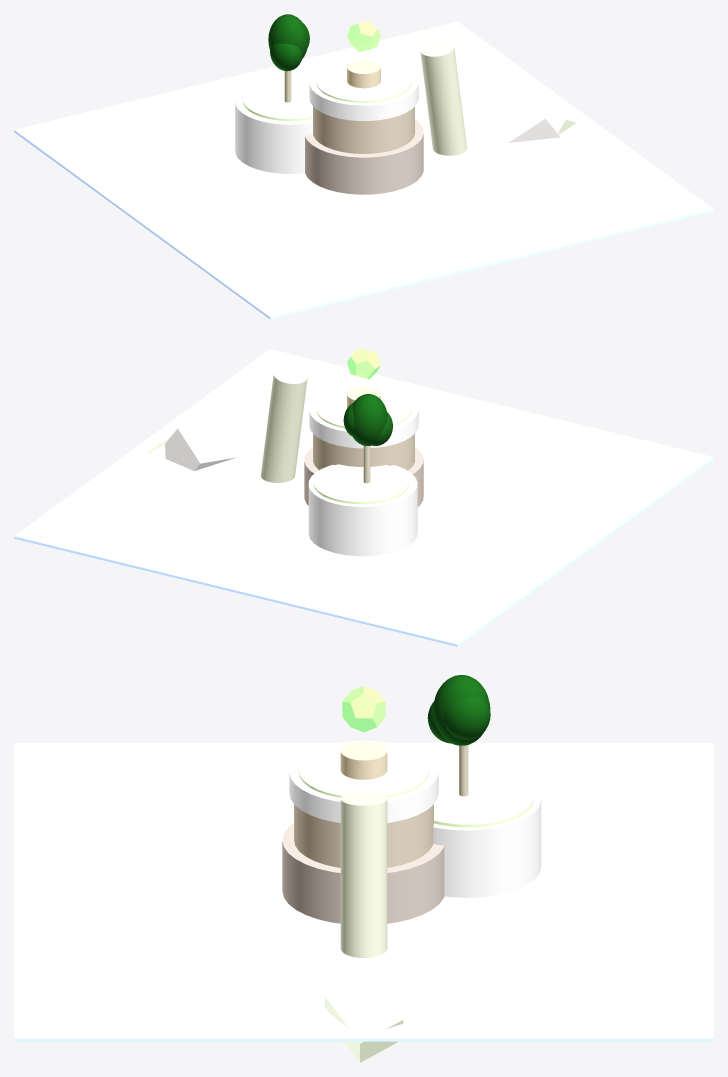
Rendered from map.glb.
3 views of the same model, one above another, from view 1: azimuth 30°, elevation 25°; view 2: azimuth 150°, elevation 25°; view 3: azimuth 270°, elevation 25° (orthographic). The views are drawn at different scales.
Parts seen in each view (by area): view 1: Box (×3), Cylinder (×8), Sphere (×2), Dodecahedron; view 2: Box (×2), Cylinder (×7), Sphere, Dodecahedron; view 3: Box (×3), Cylinder (×8), Sphere (×2), Dodecahedron.
Boxes of the visible parts, x1=… form: Box (×3): x1=14, y1=21, x2=713, y2=319; Cylinder (×8): x1=235, y1=40, x2=466, y2=194; Sphere (×2): x1=268, y1=14, x2=307, y2=71; Dodecahedron: x1=347, y1=21, x2=380, y2=51; Box (×2): x1=14, y1=349, x2=713, y2=646; Cylinder (×7): x1=260, y1=367, x2=423, y2=556; Sphere: x1=352, y1=394, x2=387, y2=445; Dodecahedron: x1=347, y1=348, x2=380, y2=379; Box (×3): x1=14, y1=743, x2=713, y2=1062; Cylinder (×8): x1=282, y1=740, x2=541, y2=957; Sphere (×2): x1=433, y1=675, x2=490, y2=745; Dodecahedron: x1=342, y1=686, x2=385, y2=732.
Size of the model in its own units: 30 by 11.71 by 30.
